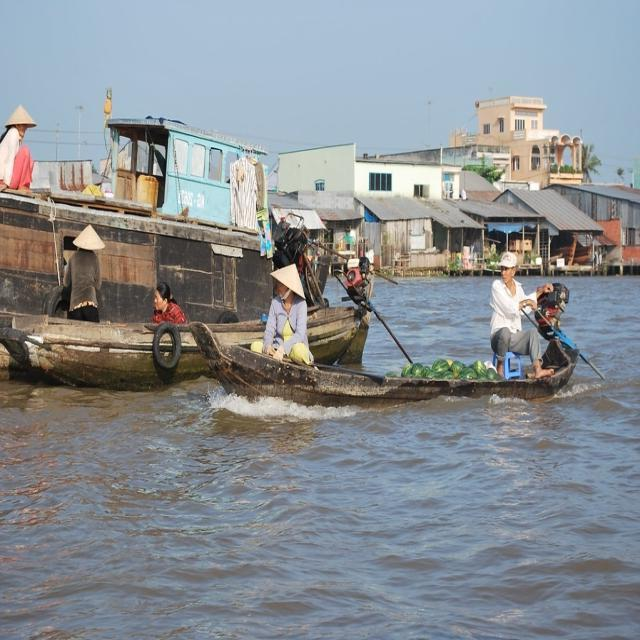boat: (0, 295, 382, 394), (200, 328, 578, 414)
